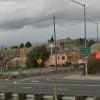Tree: (20, 35, 50, 75)
